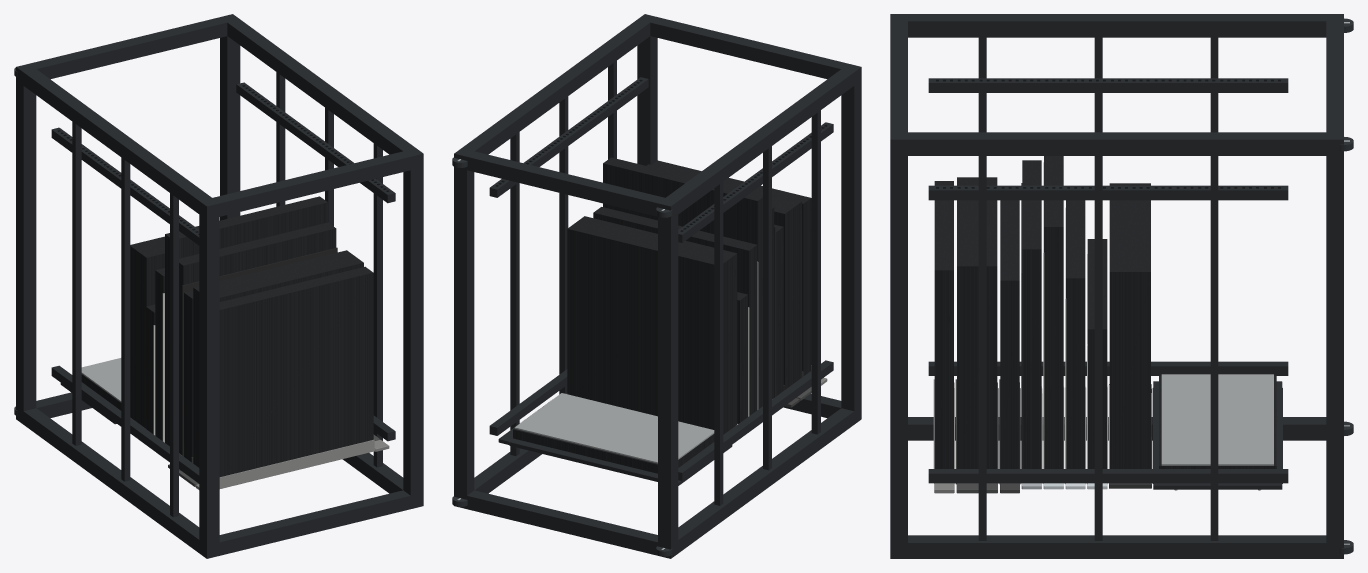
File: cisco-edge-16u.glb
The picture shows the model from 3 angles, left to right: view 1: azimuth 30°, elevation 25°; view 2: azimuth 150°, elevation 25°; view 3: azimuth 270°, elevation 25°; orthographic projection. The views are drawn at different scales.
Parts seen in each view (by area): view 1: RACK_FRAME__nexus_black, ASR1001X__steel_textured, SIDE_BRACES__nexus_black, MOUNTING_RAILS__nexus_black, NEXUS_9336C__steel_textured, FIREPOWER_2140__steel_textured, ISR4451X__steel_textured, SMT1500RM2U__steel_textured, ASR1001X__asr_lid, ISR4331__steel_textured, C9300_48P__steel_textured, FIREPOWER_2140__fp_lid (+3 smaller); view 2: RACK_FRAME__nexus_black, SMT1500RM2U__steel_textured, SIDE_BRACES__nexus_black, MOUNTING_RAILS__nexus_black, BLANK_EDGE__cisco_grey_dark, NEXUS_9336C__steel_textured, ISR4451X__steel_textured, C9300_48P__steel_textured, ASR1001X__steel_textured, BLANK_EDGE__steel_textured, BLANK_EDGE__nexus_black, ISR4331__steel_textured (+3 smaller); view 3: RACK_FRAME__nexus_black, MOUNTING_RAILS__nexus_black, SIDE_BRACES__nexus_black, SMT1500RM2U__steel_textured, BLANK_EDGE__cisco_grey_dark, ISR4451X__steel_textured, NEXUS_9336C__steel_textured, FIREPOWER_2140__steel_textured, ASR1001X__steel_textured, C9300_48P__steel_textured, ISR4331__steel_textured, C9200L_24T_4G__steel_textured (+4 smaller).
Boxes of the visible parts, <box> form: RACK_FRAME__nexus_black: <box>16,14,423,558</box>; ASR1001X__steel_textured: <box>219,266,373,476</box>; SIDE_BRACES__nexus_black: <box>72,72,382,517</box>; MOUNTING_RAILS__nexus_black: <box>51,82,395,483</box>; NEXUS_9336C__steel_textured: <box>165,196,327,446</box>; FIREPOWER_2140__steel_textured: <box>179,222,336,454</box>; ISR4451X__steel_textured: <box>193,250,363,467</box>; SMT1500RM2U__steel_textured: <box>130,236,164,428</box>; ASR1001X__asr_lid: <box>219,439,374,488</box>; ISR4331__steel_textured: <box>184,290,193,461</box>; C9300_48P__steel_textured: <box>155,268,164,440</box>; FIREPOWER_2140__fp_lid: <box>182,247,337,456</box>; RACK_FRAME__nexus_black: <box>454,14,861,558</box>; SMT1500RM2U__steel_textured: <box>567,216,737,434</box>; SIDE_BRACES__nexus_black: <box>510,61,820,505</box>; MOUNTING_RAILS__nexus_black: <box>489,77,833,480</box>; BLANK_EDGE__cisco_grey_dark: <box>514,393,714,463</box>; NEXUS_9336C__steel_textured: <box>603,157,762,409</box>; ISR4451X__steel_textured: <box>646,164,801,389</box>; C9300_48P__steel_textured: <box>593,207,757,415</box>; ASR1001X__steel_textured: <box>652,160,811,376</box>; BLANK_EDGE__steel_textured: <box>513,428,714,473</box>; BLANK_EDGE__nexus_black: <box>498,402,732,485</box>; ISR4331__steel_textured: <box>774,224,783,396</box>; RACK_FRAME__nexus_black: <box>890,14,1343,558</box>; MOUNTING_RAILS__nexus_black: <box>928,78,1288,483</box>; SIDE_BRACES__nexus_black: <box>978,37,1218,540</box>; SMT1500RM2U__steel_textured: <box>1109,183,1150,468</box>; BLANK_EDGE__cisco_grey_dark: <box>1161,374,1273,465</box>; ISR4451X__steel_textured: <box>957,177,997,468</box>; NEXUS_9336C__steel_textured: <box>1044,156,1063,468</box>; FIREPOWER_2140__steel_textured: <box>1022,160,1041,468</box>; ASR1001X__steel_textured: <box>934,181,953,468</box>; C9300_48P__steel_textured: <box>1066,200,1085,468</box>; ISR4331__steel_textured: <box>1000,200,1019,468</box>; C9200L_24T_4G__steel_textured: <box>1087,239,1107,468</box>.
Bounding box in the file's own units: 0.609 × 0.94 × 0.9422.
164 materials, 9 textured.
